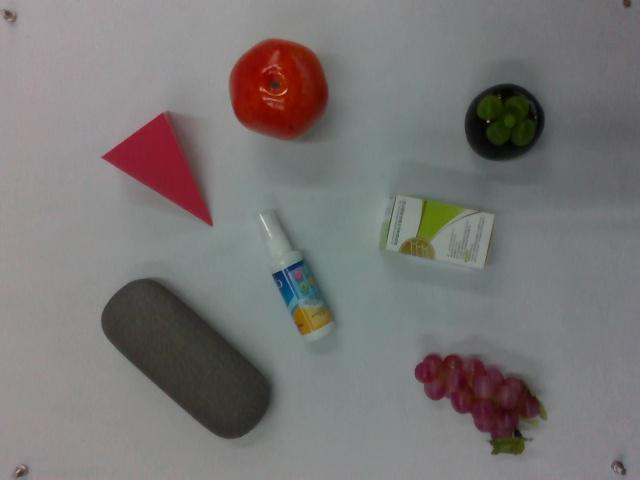carton: (378, 185, 497, 275)
detergent: (250, 207, 342, 347)
glassescase: (99, 275, 275, 445)
grape: (413, 349, 551, 457)
mangosteen: (464, 82, 546, 168)
pomegranate: (225, 36, 335, 143)
pyramid: (99, 107, 218, 230)
